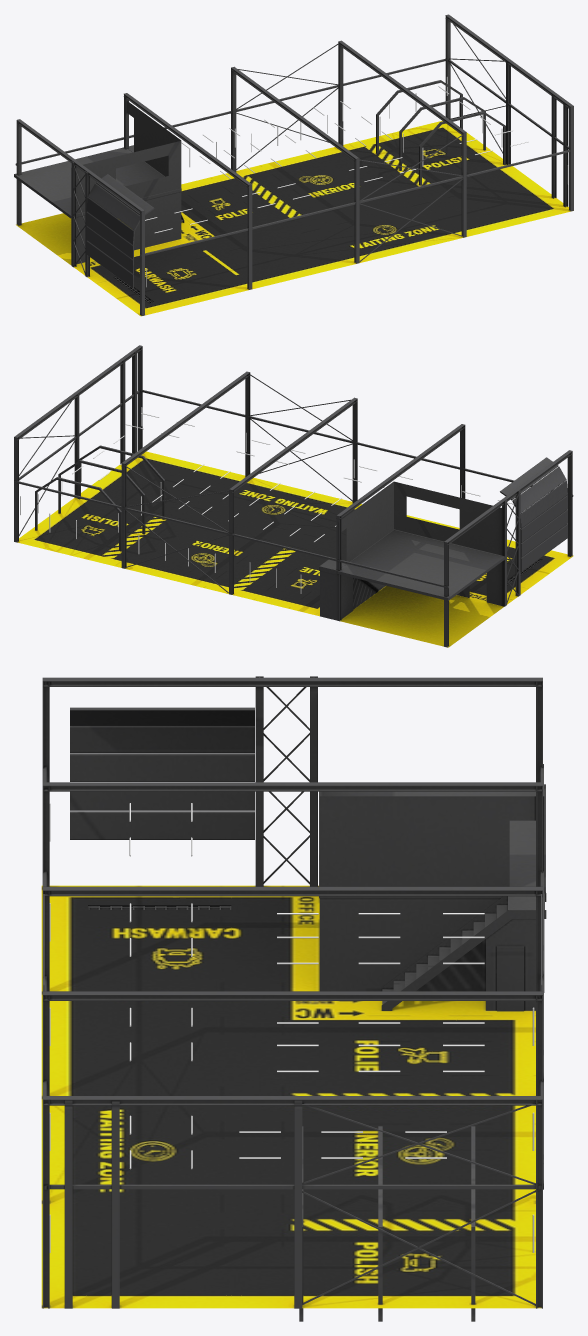
The picture shows the model from 3 angles, top to bottom: view 1: azimuth 30°, elevation 25°; view 2: azimuth 150°, elevation 25°; view 3: azimuth 270°, elevation 25°; orthographic projection. The views are drawn at different scales.
Visible parts, largest first — view 1: Object001_Object001_mtl_0; view 2: Object001_Object001_mtl_0; view 3: Object001_Object001_mtl_0.
Boxes of the visible parts, x1=… form: Object001_Object001_mtl_0: x1=14, y1=14, x2=573, y2=316; Object001_Object001_mtl_0: x1=14, y1=345, x2=573, y2=647; Object001_Object001_mtl_0: x1=41, y1=676, x2=546, y2=1321.
Bounding box in the file's own units: 948 × 236 × 477.
1 material, 1 textured.
